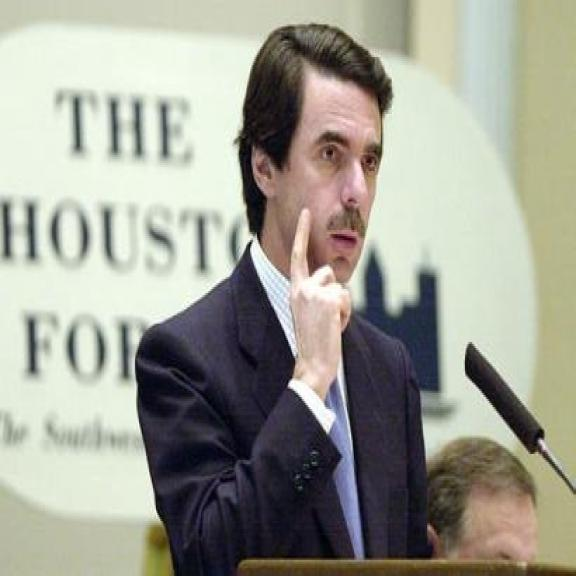face: (251, 64, 388, 290)
